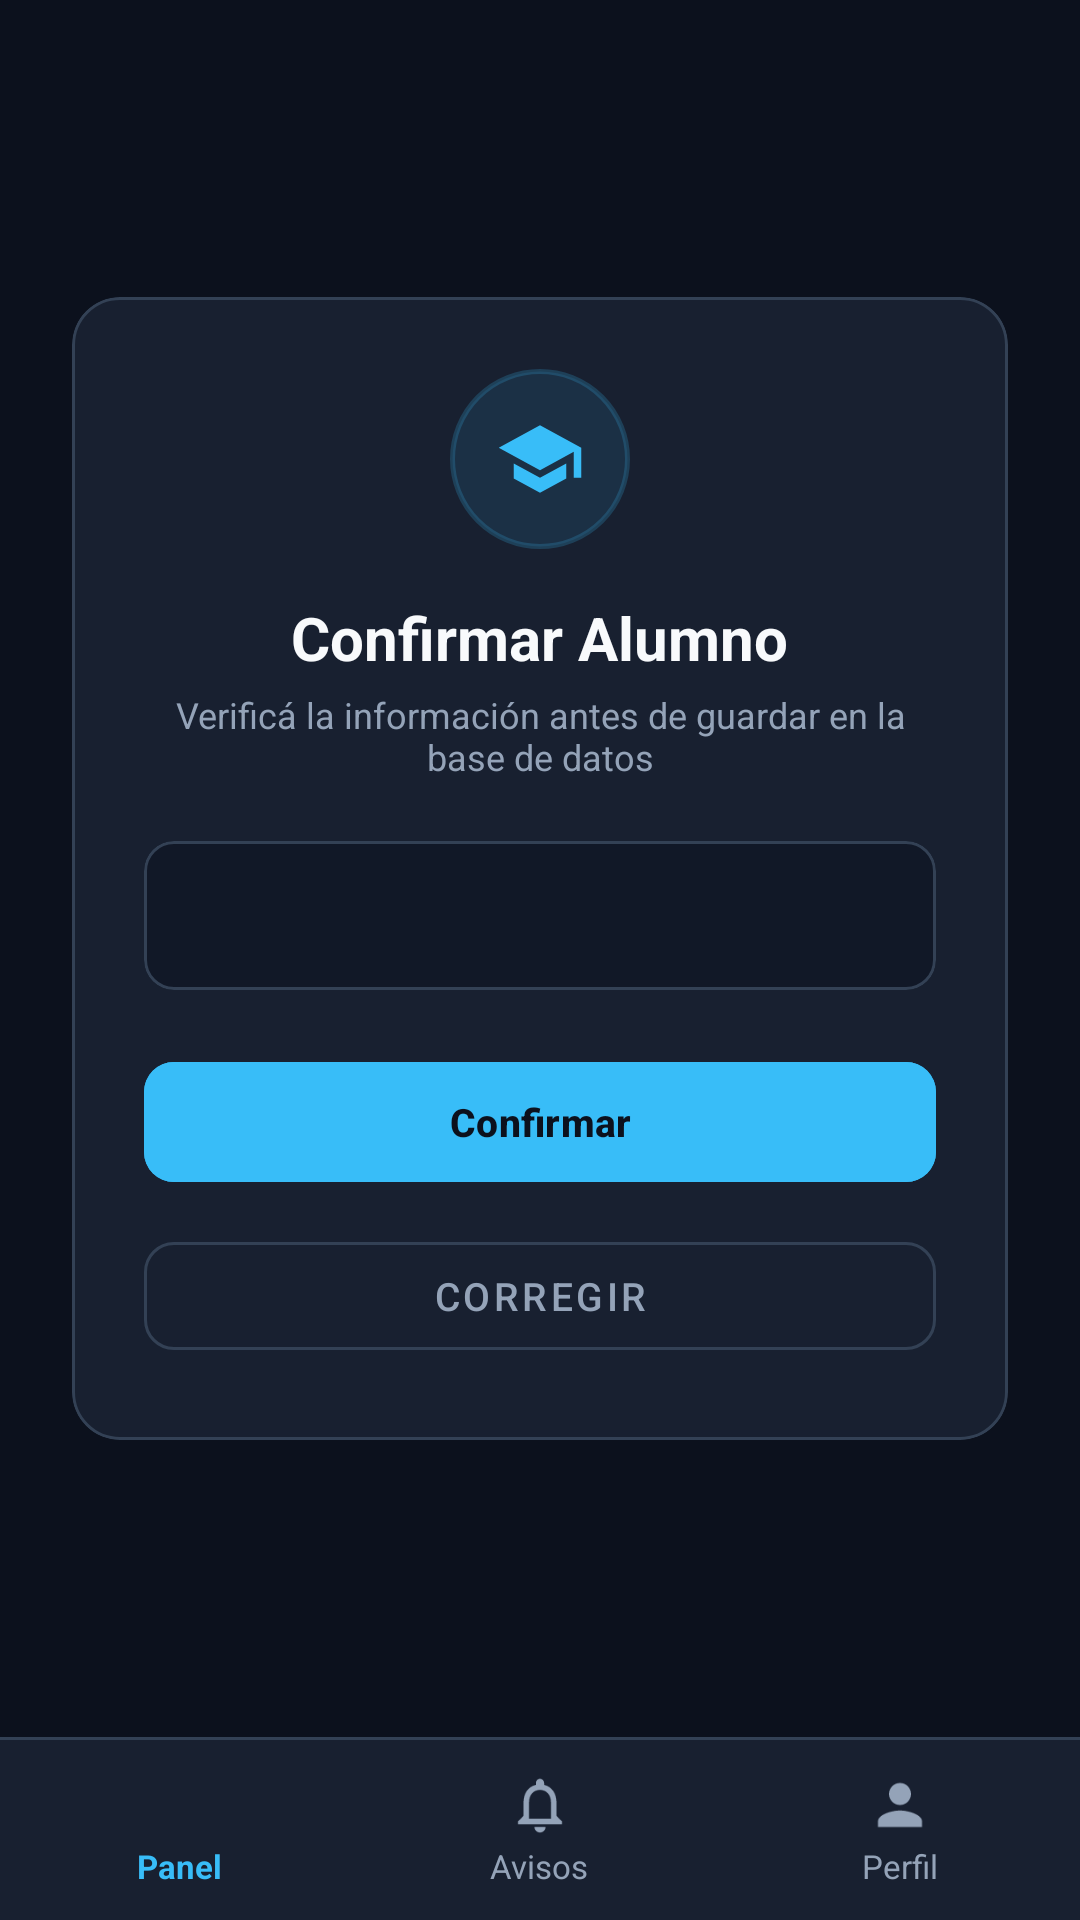

Icon bounding boxes for this 1080px x 1920px phone screenshot, format bbox=(x1, y1, x2, y2):
school: bbox=(499, 425, 582, 493)
